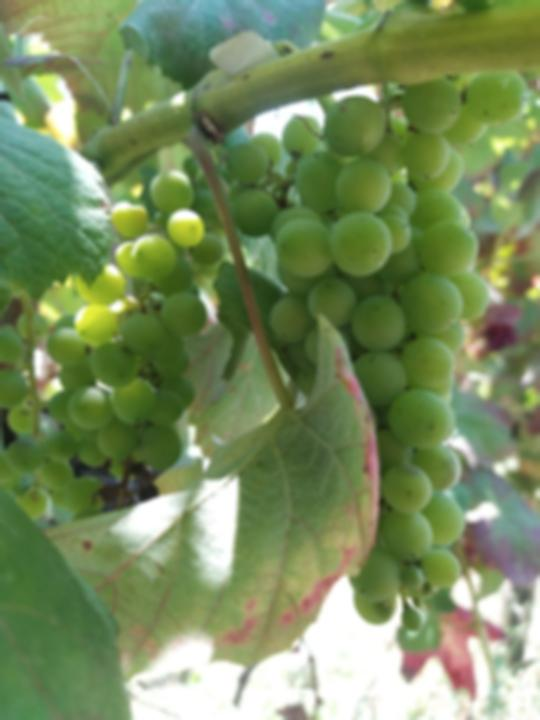grape: (222, 70, 528, 630), (44, 172, 222, 513)
